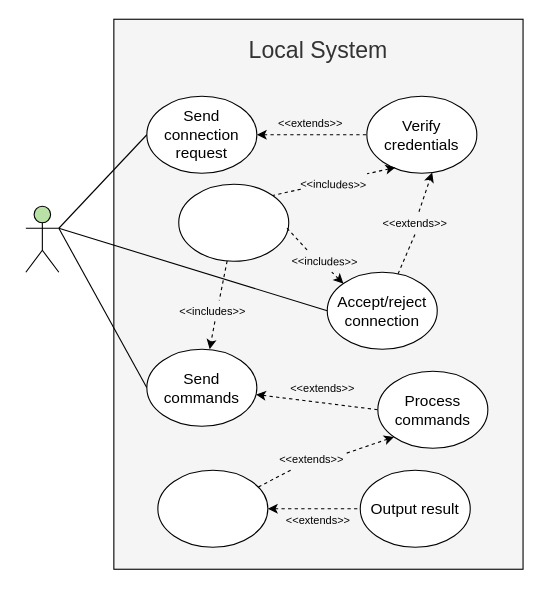
This 542x589 diagram has some shape labels left out. Each missing label, with the centre of its shape:
"Manage connection" belongs at (x=233, y=222).
"Remote System" belongs at (x=42, y=238).
"Run RL Inference" belongs at (x=212, y=508).
